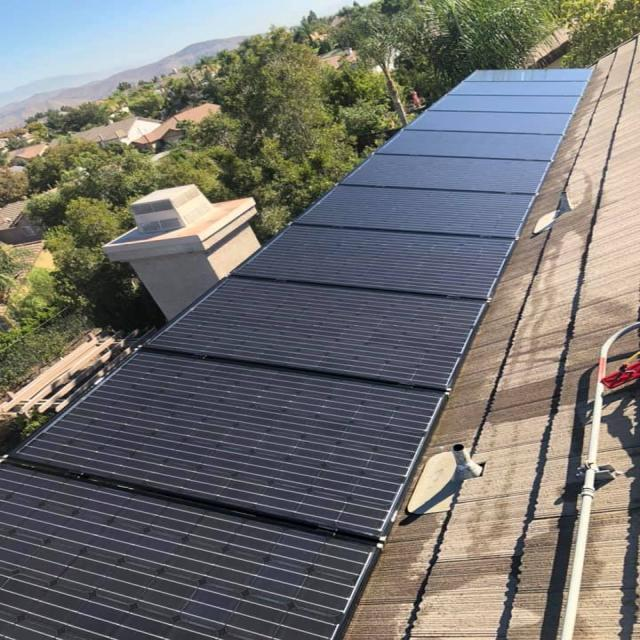clean-solar-panel: (430, 95, 578, 114)
